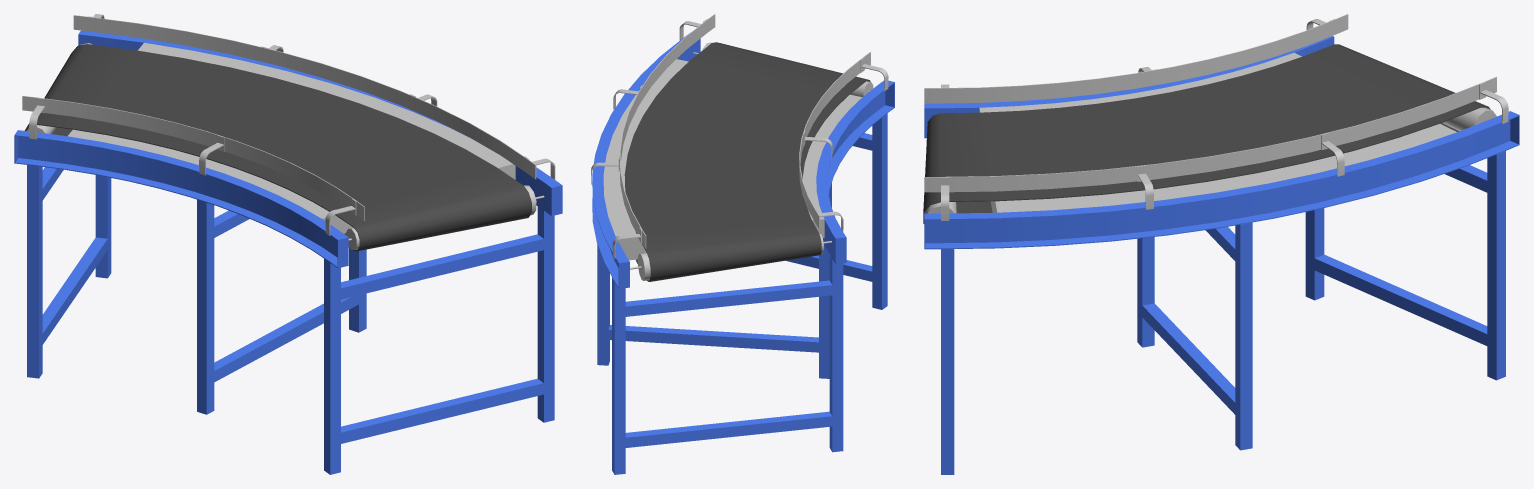
The model's file is conveyor.fbx.
3 views of the same model, side by side, from view 1: azimuth 30°, elevation 25°; view 2: azimuth 150°, elevation 25°; view 3: azimuth 270°, elevation 25° (orthographic). The views are drawn at different scales.
Parts seen in each view (by area): view 1: Layer0; view 2: Layer0; view 3: Layer0.
Boxes of the visible parts, x1,y1,x2,y2 form: Layer0: (14, 14, 562, 474); Layer0: (591, 14, 894, 474); Layer0: (923, 14, 1519, 474).
Size of the model in its own units: 52.46 by 70.72 by 37.17.
